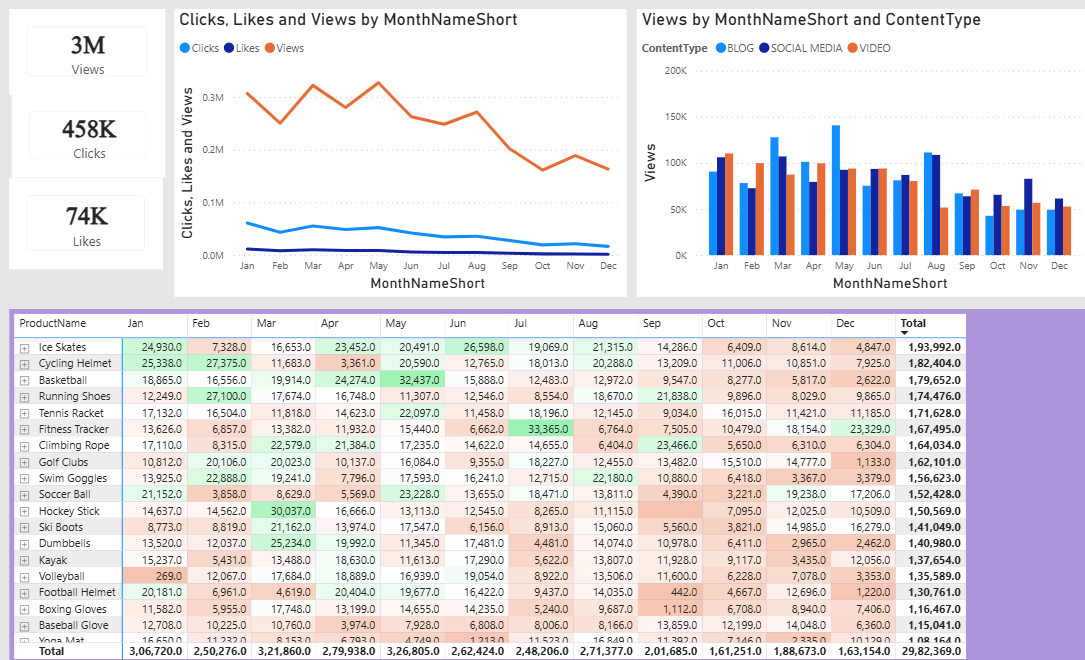

What the dashboard file says about the page in this screenshot:
{"tool":"powerbi","page":{"name":"Social Media Details","canvas":[1280,720],"ordinal":2},"visuals":[{"type":"cardVisual","fields":{"Data":["_Calculations.Clicks"]},"box":[212.5,277.5,151.2,82.5],"z":0},{"type":"slicer","fields":{"Values":["Calendar.Year"]},"box":[211.3,0,410.3,64.5],"z":1000},{"type":"cardVisual","fields":{"Data":["_Calculations.Likes"]},"box":[211.2,173.8,151.2,88.8],"z":2000},{"type":"cardVisual","fields":{"Data":["_Calculations.Views"]},"box":[211.2,78.8,152.5,83.8],"z":3000},{"type":"textbox","box":[4.1,2.7,215.4,61.7],"z":4000},{"type":"slicer","fields":{"Values":["dim_products.ProductName"]},"box":[0,78.2,200.3,642.2],"z":5000},{"type":"slicer","fields":{"Values":["Calendar.MonthNameShort"]},"box":[621.6,0,658.7,64.5],"z":6000},{"type":"lineChart","fields":{"Category":["Calendar.MonthNameShort"],"Y":["_Calculations.Clicks","_Calculations.Likes","_Calculations.Views"]},"box":[372.5,78.8,442.5,281.2],"z":7000},{"type":"clusteredColumnChart","fields":{"Category":["Calendar.MonthNameShort"],"Y":["_Calculations.Views"],"Series":["fact_engagement_data.ContentType"]},"box":[825,78.8,442.5,281.2],"z":8000},{"type":"pivotTable","fields":{"Rows":["dim_products.ProductName","fact_engagement_data.ContentType"],"Columns":["Calendar.MonthNameShort"],"Values":["_Calculations.Views"]},"box":[211.6,371.7,1068.8,347.3],"z":9000}]}

Visuals, with their boxes on the page's 1280x720 design canvas (x1, y1, x2, y2). These are canvas units, not pixel positions in the 1085x660 screenshot, which may show the page scaled, cropped or inside an application window:
cardVisual - _Calculations.Clicks: [left=212, top=278, right=364, bottom=360]
slicer - Calendar.Year: [left=211, top=0, right=622, bottom=64]
cardVisual - _Calculations.Likes: [left=211, top=174, right=362, bottom=263]
cardVisual - _Calculations.Views: [left=211, top=79, right=364, bottom=163]
textbox: [left=4, top=3, right=220, bottom=64]
slicer - dim_products.ProductName: [left=0, top=78, right=200, bottom=720]
slicer - Calendar.MonthNameShort: [left=622, top=0, right=1280, bottom=64]
lineChart - Calendar.MonthNameShort x _Calculations.Clicks: [left=372, top=79, right=815, bottom=360]
clusteredColumnChart - Calendar.MonthNameShort x _Calculations.Views: [left=825, top=79, right=1268, bottom=360]
pivotTable - dim_products.ProductName x fact_engagement_data.ContentType: [left=212, top=372, right=1280, bottom=719]
